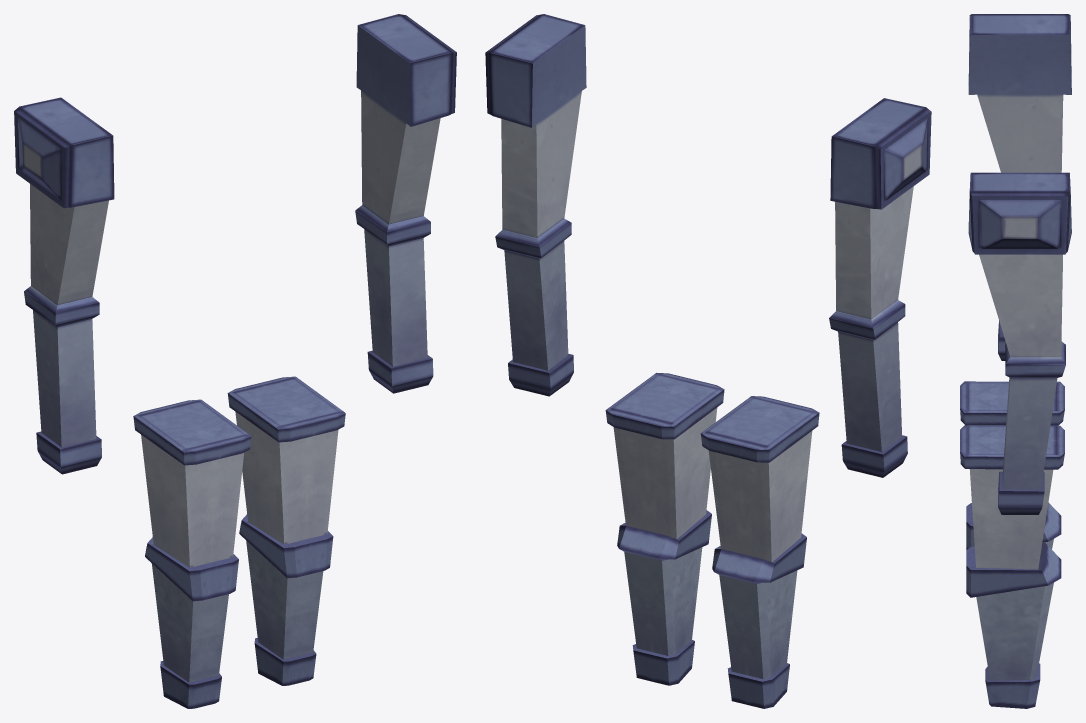
The model's file is knightAnimationTry4.fbx.
The picture shows the model from 3 angles, left to right: view 1: azimuth 30°, elevation 25°; view 2: azimuth 150°, elevation 25°; view 3: azimuth 270°, elevation 25°; orthographic projection. The views are drawn at different scales.
Visible parts, largest first — view 1: L_Arm, R_Arm, R_Foot, L_Foot; view 2: L_Arm, R_Arm, R_Foot, L_Foot; view 3: L_Arm, L_Foot, R_Arm, R_Foot.
Part boxes in pixels (x1,y1,x2,y2): L_Arm: (355,14,456,393); R_Arm: (14,97,114,474); R_Foot: (133,399,251,708); L_Foot: (227,376,345,685); L_Arm: (485,14,586,396); R_Arm: (829,98,931,477); R_Foot: (700,396,819,708); L_Foot: (605,372,724,685); L_Arm: (968,172,1071,514); L_Foot: (960,425,1064,708); R_Arm: (968,14,1071,360); R_Foot: (960,381,1064,549).
Size of the model in its own units: 0.7414 by 1.05 by 0.1858.
Materials: 1 (1 with a texture image).
